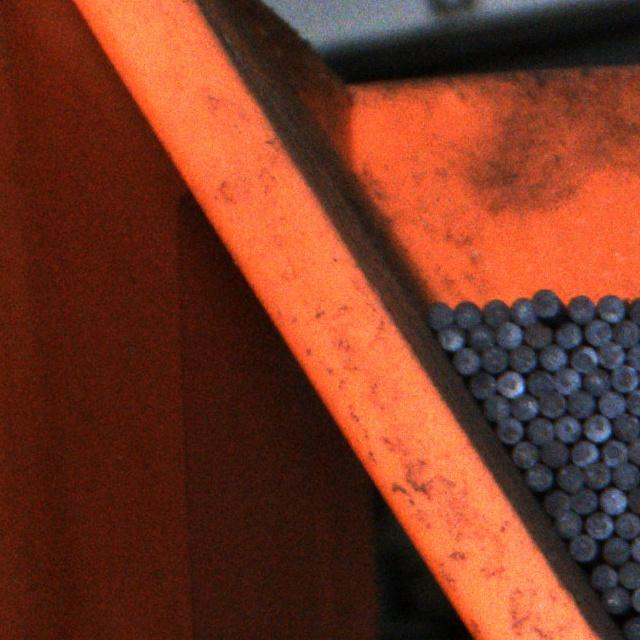tool: (533, 288, 561, 318), (598, 293, 628, 321), (482, 298, 510, 327), (582, 414, 610, 442), (568, 294, 596, 322), (495, 370, 523, 398), (428, 300, 456, 328), (570, 344, 598, 372), (453, 299, 480, 328), (512, 296, 538, 326), (570, 533, 598, 560), (496, 322, 523, 350), (510, 394, 538, 421), (597, 342, 625, 369), (468, 322, 495, 350), (601, 536, 628, 564), (524, 463, 551, 490), (509, 344, 536, 371), (511, 441, 538, 468), (612, 364, 639, 391), (556, 464, 583, 491), (613, 413, 640, 440), (539, 392, 566, 419), (494, 416, 522, 442), (565, 392, 593, 418), (614, 320, 640, 348), (538, 442, 566, 468), (542, 490, 570, 516), (583, 320, 611, 346), (525, 418, 553, 444), (612, 462, 640, 488), (601, 586, 629, 612), (481, 344, 507, 372), (524, 369, 552, 395), (614, 511, 640, 538), (585, 512, 612, 538), (569, 442, 596, 468), (452, 347, 478, 374), (584, 367, 610, 394), (469, 372, 495, 399), (554, 511, 581, 537), (554, 368, 581, 394), (589, 563, 616, 589), (538, 345, 564, 371), (438, 324, 464, 350), (553, 416, 579, 442), (602, 441, 628, 467), (483, 394, 509, 420), (583, 463, 609, 489), (600, 488, 626, 514), (599, 391, 625, 417), (554, 323, 580, 349), (522, 322, 550, 346), (571, 488, 597, 513), (618, 560, 640, 587), (623, 617, 640, 640), (626, 390, 640, 416), (626, 488, 640, 514), (628, 434, 640, 463), (627, 345, 640, 370), (630, 296, 640, 326), (630, 534, 640, 562), (631, 586, 640, 613)
